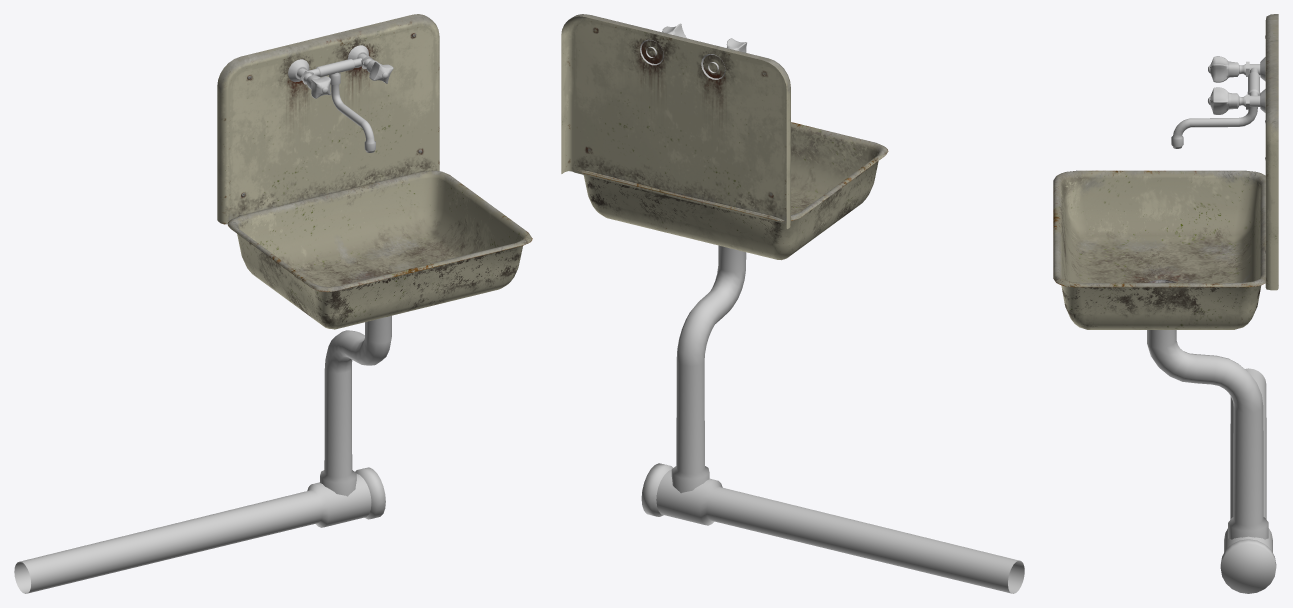
The model's file is Soviet_Washbasin_01.fbx.
3 views of the same model, side by side, from view 1: azimuth 30°, elevation 25°; view 2: azimuth 150°, elevation 25°; view 3: azimuth 270°, elevation 25° (orthographic). The views are drawn at different scales.
Parts seen in each view (by area): view 1: LOD0 (×5), tap_water; view 2: LOD0 (×4); view 3: LOD0 (×7), tap_water.
Boxes of the visible parts, left/top/right/bottom form: LOD0 (×5): left=14, top=14, right=532, bottom=593; tap_water: left=329, top=72, right=375, bottom=152; LOD0 (×4): left=561, top=14, right=1024, bottom=593; LOD0 (×7): left=1053, top=14, right=1278, bottom=593; tap_water: left=1171, top=92, right=1260, bottom=148.
Size of what is drawn, in the model's own units: 134 by 143 by 56.62.
